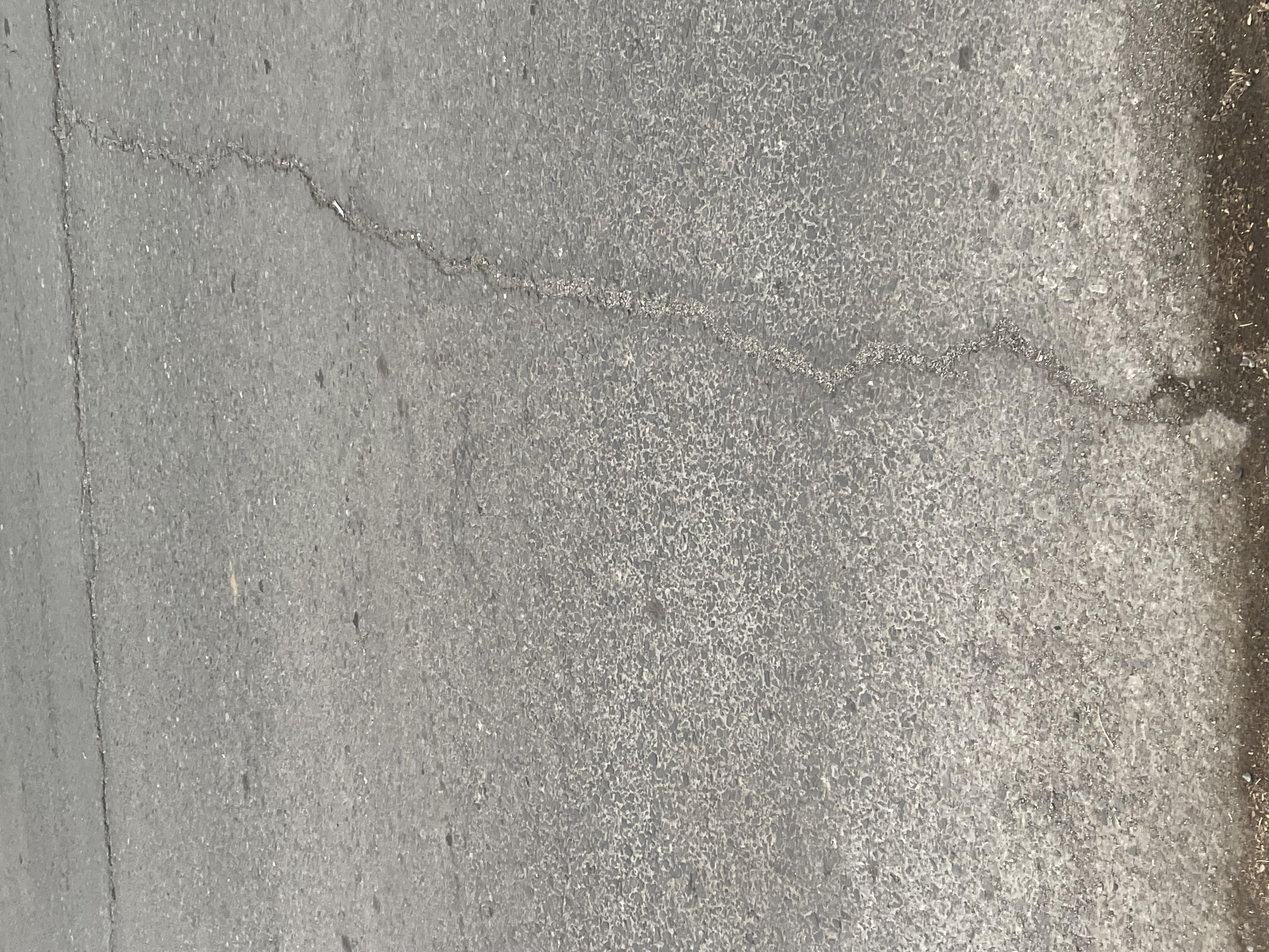GRIETA: (63, 110, 1246, 427), (44, 0, 116, 952)
